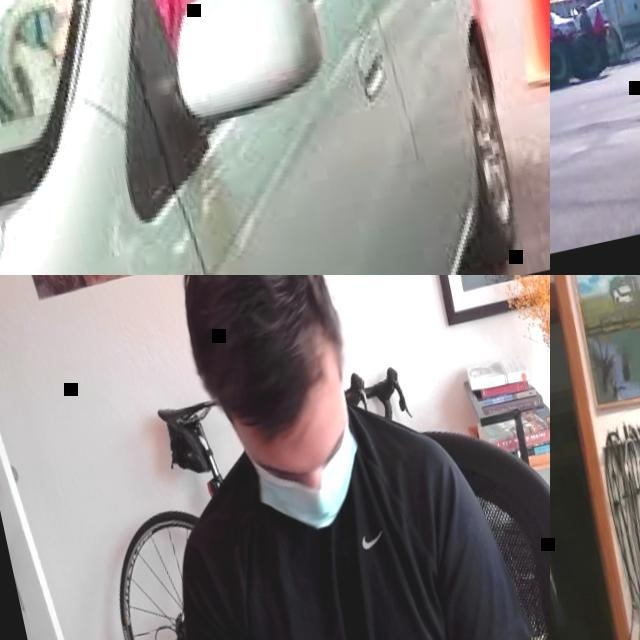Mask: (246, 426, 374, 540)
NO-Hardhat: (155, 275, 356, 441), (579, 5, 586, 13)
NO-Safety Vest: (186, 405, 483, 640)
Person: (91, 275, 546, 640), (15, 0, 299, 70), (0, 0, 69, 130), (575, 4, 593, 34)
Safety Cone: (484, 0, 550, 94), (450, 0, 494, 28), (593, 7, 606, 31), (550, 17, 556, 40)
machinery: (572, 0, 640, 62)
vehicle: (0, 0, 532, 275), (550, 5, 578, 49)
